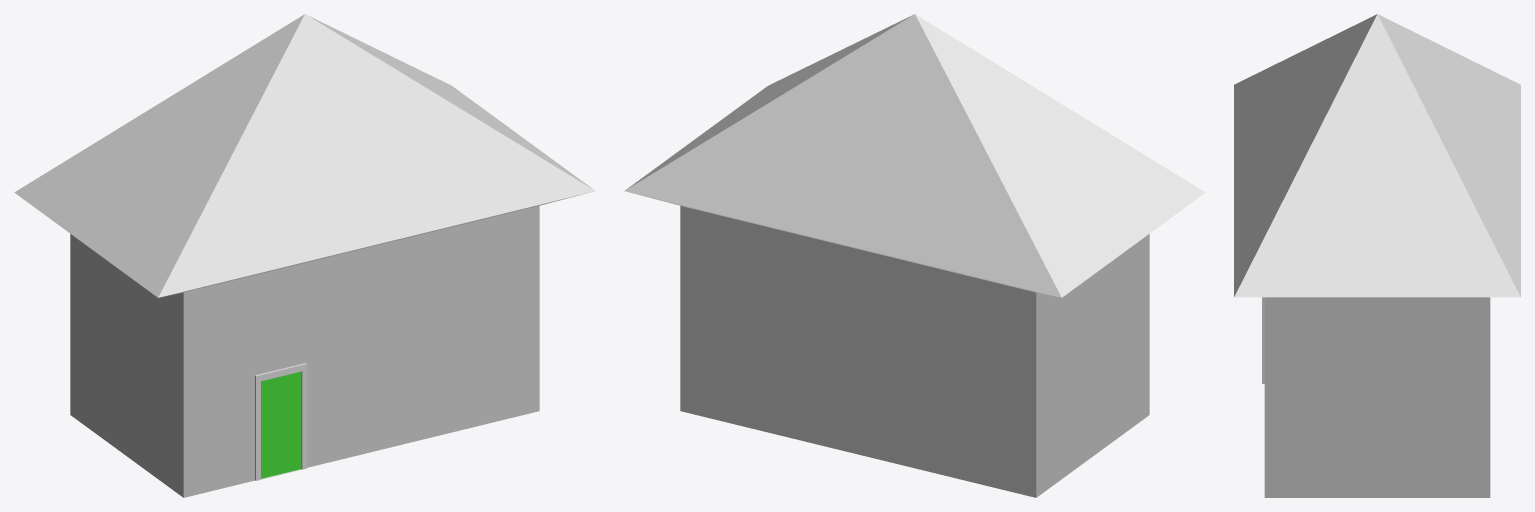
The model's file is casa2.fbx.
3 views of the same model, side by side, from view 1: azimuth 30°, elevation 25°; view 2: azimuth 150°, elevation 25°; view 3: azimuth 270°, elevation 25° (orthographic).
Visible parts, largest first — view 1: Cube.003; view 2: Cube.003; view 3: Cube.003.
Boxes of the visible parts, x1,y1,x2,y2 form: Cube.003: (14, 14, 595, 497); Cube.003: (624, 14, 1205, 497); Cube.003: (1234, 14, 1520, 497).
Bounding box in the file's own units: 446 × 389 × 254.
